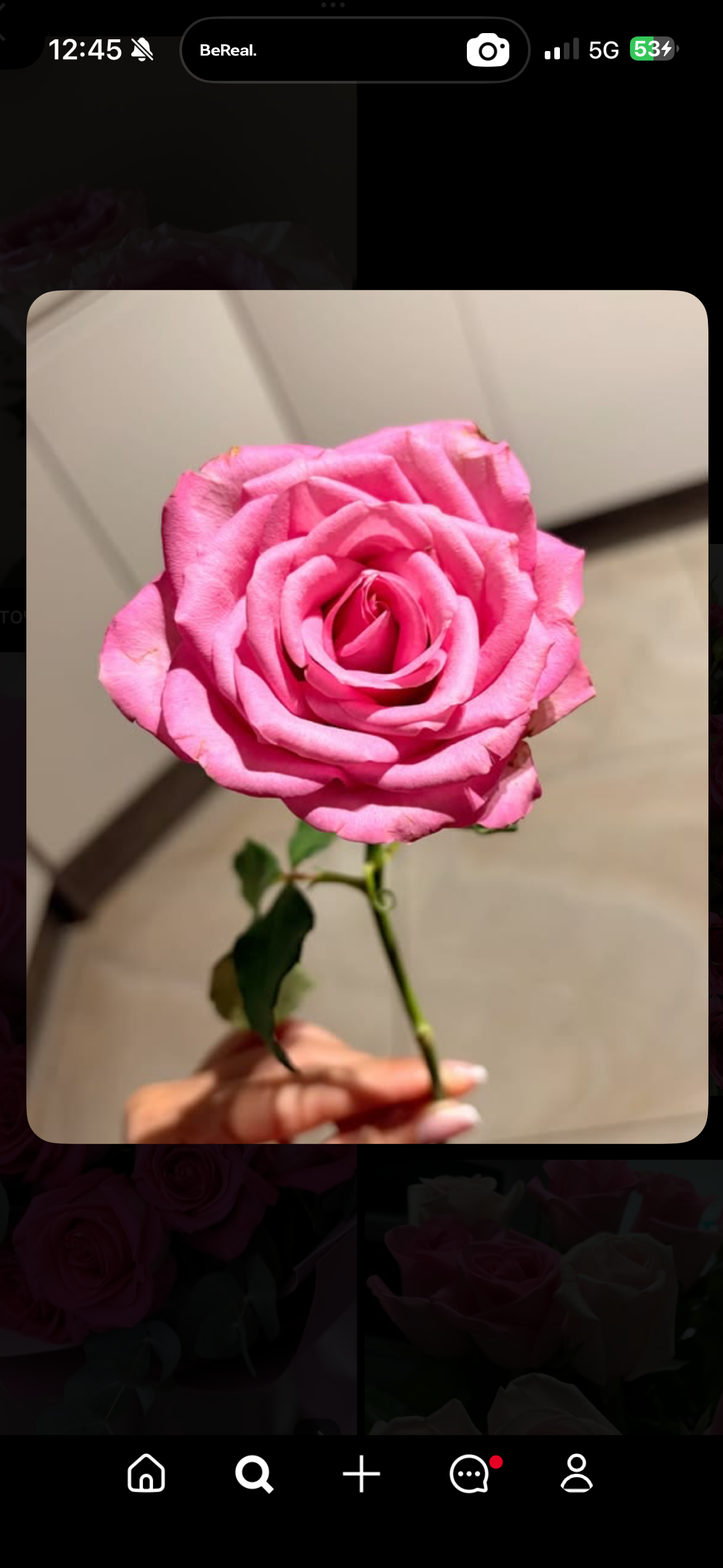rose: (89, 412, 599, 846)
